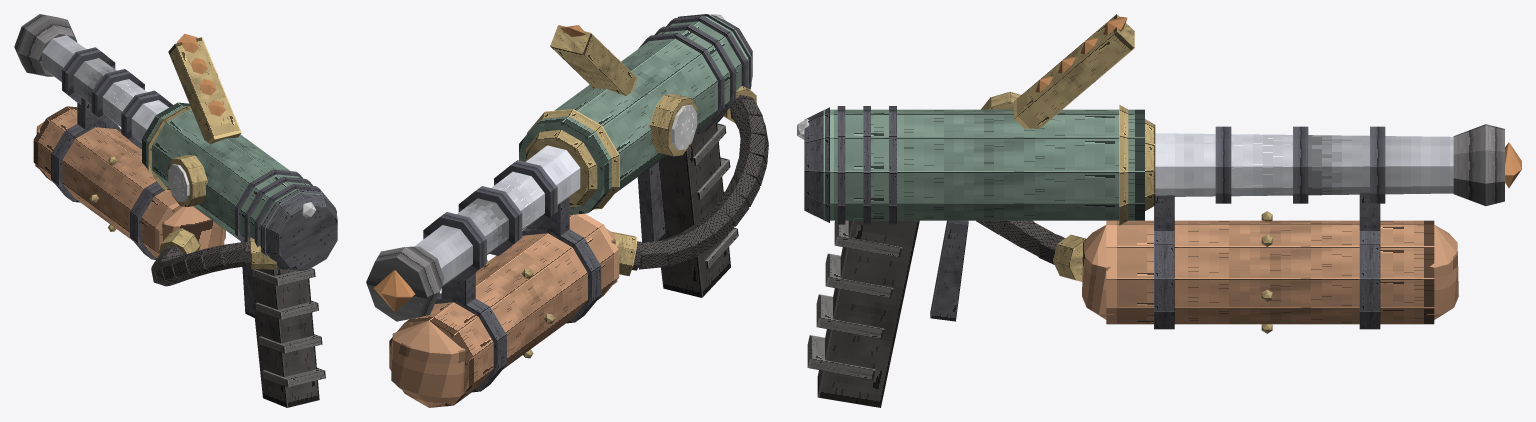
The model's file is weapon_riveter.gltf.
3 renders of one model, left to right at view 1: azimuth 30°, elevation 25°; view 2: azimuth 150°, elevation 25°; view 3: azimuth 270°, elevation 25°, orthographic. The views are drawn at different scales.
Parts seen in each view (by area): view 1: body, nose, hose_0, hose_1, heads, glow, hose_2, hose_3; view 2: body, nose, hose_2, hose_1, hose_3, hose_0, glow, rivet; view 3: body, nose, hose_3, heads, hose_2.
Part boxes in pixels (x1=…): body: x1=33, y1=37, x2=337, y2=407; nose: x1=14, y1=14, x2=172, y2=148; hose_0: x1=203, y1=242, x2=250, y2=272; hose_1: x1=162, y1=248, x2=211, y2=283; heads: x1=177, y1=33, x2=224, y2=116; glow: x1=168, y1=164, x2=315, y2=217; hose_2: x1=151, y1=260, x2=175, y2=286; hose_3: x1=152, y1=246, x2=184, y2=266; body: x1=389, y1=14, x2=756, y2=407; nose: x1=366, y1=145, x2=580, y2=321; hose_2: x1=679, y1=191, x2=749, y2=257; hose_1: x1=725, y1=133, x2=768, y2=206; hose_3: x1=632, y1=234, x2=692, y2=270; hose_0: x1=730, y1=95, x2=768, y2=143; glow: x1=671, y1=14, x2=724, y2=150; rivet: x1=374, y1=270, x2=415, y2=311; body: x1=804, y1=14, x2=1458, y2=407; nose: x1=1155, y1=124, x2=1504, y2=206; hose_3: x1=1018, y1=221, x2=1065, y2=264; heads: x1=1035, y1=16, x2=1127, y2=92; hose_2: x1=976, y1=220, x2=1033, y2=248.
Bounding box in the file's own units: 0.1471 × 0.326 × 0.5638.
9 materials, 9 textured.
